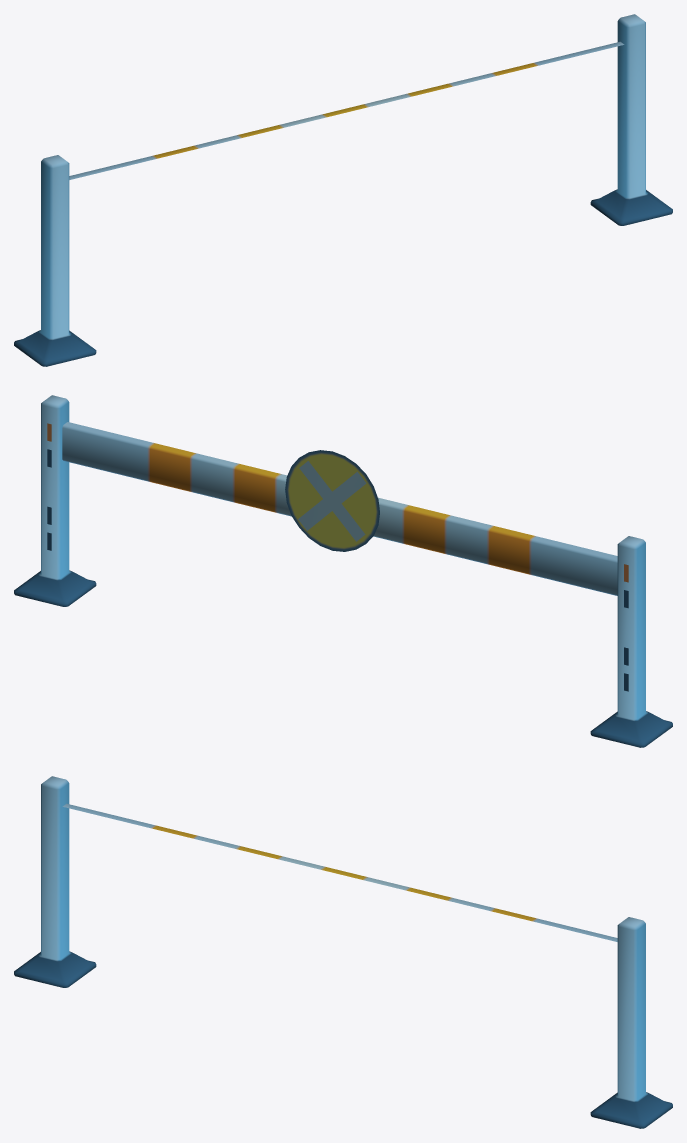
The model's file is RoadWorksBarrierHighNight.glb.
The picture shows the model from 3 angles, top to bottom: view 1: azimuth 30°, elevation 25°; view 2: azimuth 150°, elevation 25°; view 3: azimuth 330°, elevation 25°; orthographic projection.
Parts seen in each view (by area): view 1: RoadWorksBarrierHighNight; view 2: RoadWorksBarrierHighNight; view 3: RoadWorksBarrierHighNight.
Part boxes in pixels (x1,y1,x2,y2): RoadWorksBarrierHighNight: (14, 14, 672, 366); RoadWorksBarrierHighNight: (14, 395, 672, 747); RoadWorksBarrierHighNight: (14, 776, 672, 1128).
Bounding box in the file's own units: 4.97 × 1.58 × 0.4257.
